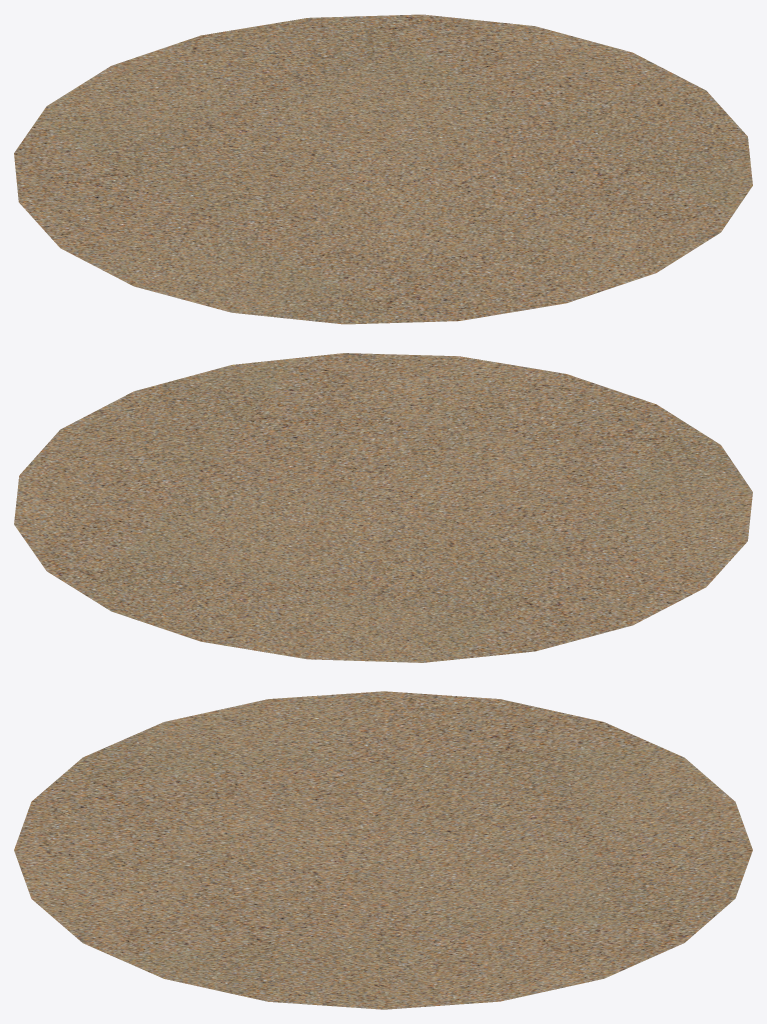
The model's file is jk3_engine_sand.fbx.
The picture shows the model from 3 angles, top to bottom: view 1: azimuth 30°, elevation 25°; view 2: azimuth 150°, elevation 25°; view 3: azimuth 270°, elevation 25°; orthographic projection.
Parts seen in each view (by area): view 1: I_sand; view 2: I_sand; view 3: I_sand.
Boxes of the visible parts, left/top/right/bottom form: I_sand: left=14, top=14, right=752, bottom=324; I_sand: left=14, top=353, right=752, bottom=662; I_sand: left=14, top=691, right=752, bottom=1009.
Bounding box in the file's own units: 54.44 × 0.026 × 53.39.
